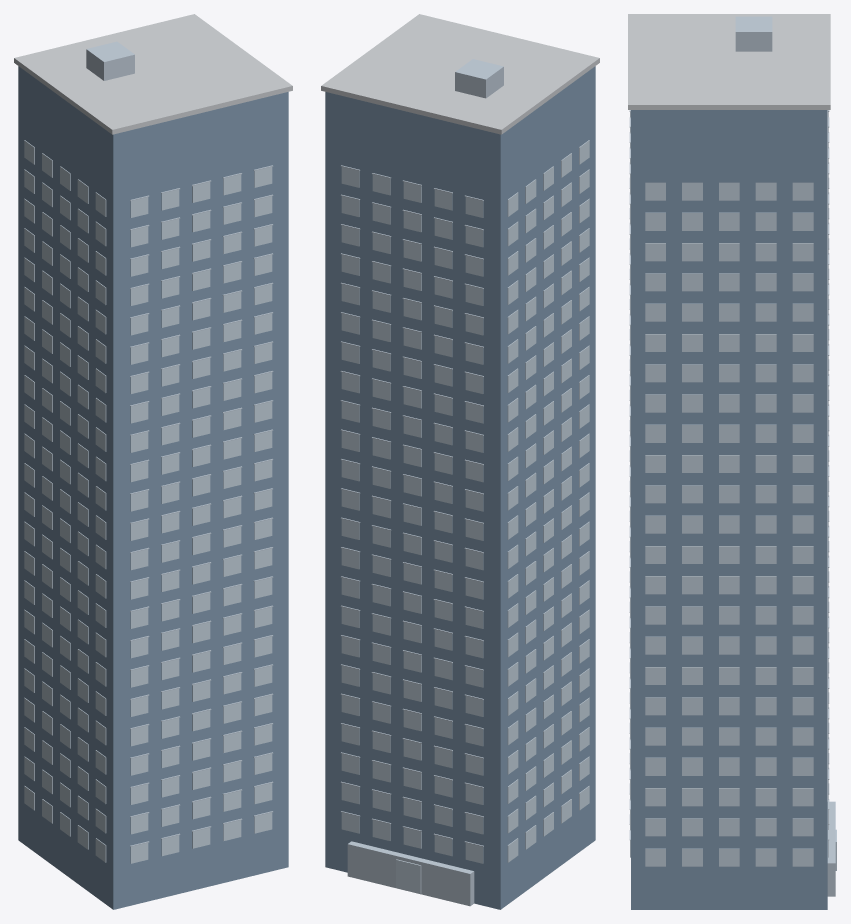
File: torre_oficinas.glb
3 views of the same model, side by side, from view 1: azimuth 30°, elevation 25°; view 2: azimuth 150°, elevation 25°; view 3: azimuth 270°, elevation 25° (orthographic). The views are drawn at different scales.
Parts seen in each view (by area): view 1: BuildingFacade_1, Rooftop_2, RoofEquipment_695; view 2: BuildingFacade_1, Rooftop_2, Lobby_3, RoofEquipment_695, GlassDoor_4; view 3: BuildingFacade_1, Rooftop_2, RoofEquipment_695, Lobby_3.
Boxes of the visible parts, x1,y1,x2,y2 form: BuildingFacade_1: (18, 66, 288, 909); Rooftop_2: (14, 14, 292, 134); RoofEquipment_695: (86, 41, 134, 80); BuildingFacade_1: (325, 66, 595, 909); Rooftop_2: (321, 14, 599, 134); Lobby_3: (347, 841, 474, 906); RoofEquipment_695: (455, 59, 503, 98); GlassDoor_4: (396, 859, 421, 893); BuildingFacade_1: (631, 110, 827, 909); Rooftop_2: (628, 14, 830, 109); RoofEquipment_695: (735, 16, 772, 51); Lobby_3: (827, 801, 835, 896).
Bounding box in the file's own units: 17.5 × 74.2 × 17.01.
